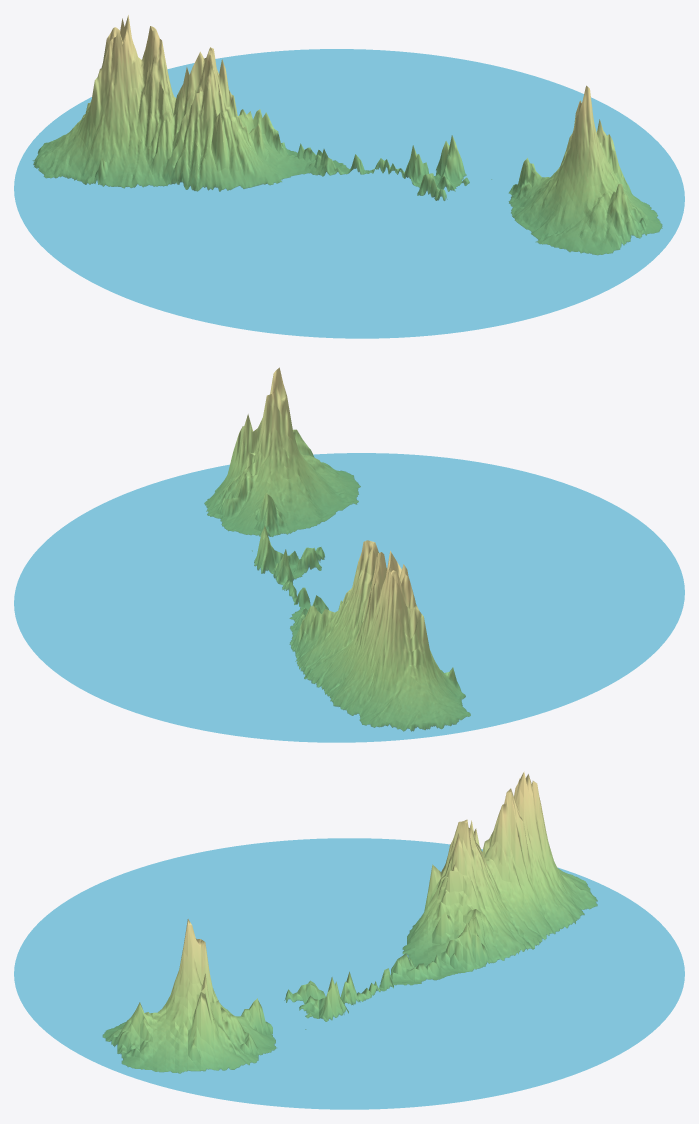
The model's file is KNA-terrain.glb.
The picture shows the model from 3 angles, top to bottom: view 1: azimuth 30°, elevation 25°; view 2: azimuth 150°, elevation 25°; view 3: azimuth 270°, elevation 25°; orthographic projection. The views are drawn at different scales.
Parts seen in each view (by area): view 1: Relevo com hidrografia; view 2: Relevo com hidrografia; view 3: Relevo com hidrografia.
Boxes of the visible parts, x1,y1,x2,y2 form: Relevo com hidrografia: (14,15,684,338); Relevo com hidrografia: (14,367,684,742); Relevo com hidrografia: (14,771,684,1109).
Bounding box in the file's own units: 2.09 × 0.5058 × 2.18.
2 materials, 1 textured.
